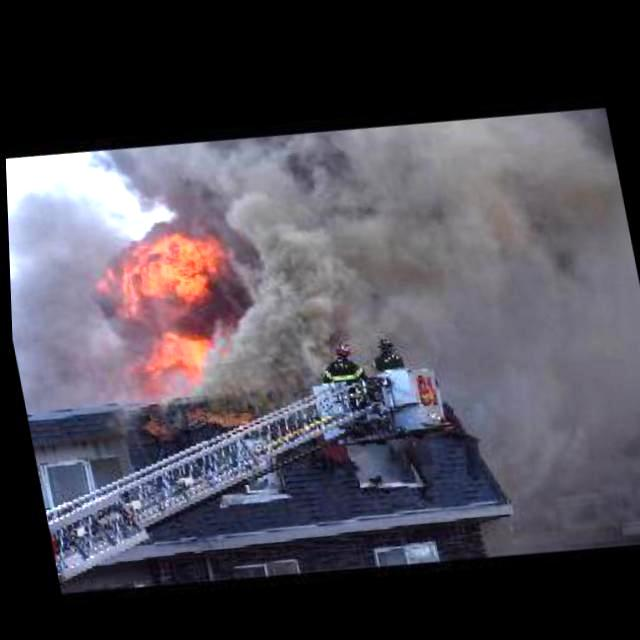fire: (194, 154, 363, 366), (90, 206, 246, 397)
